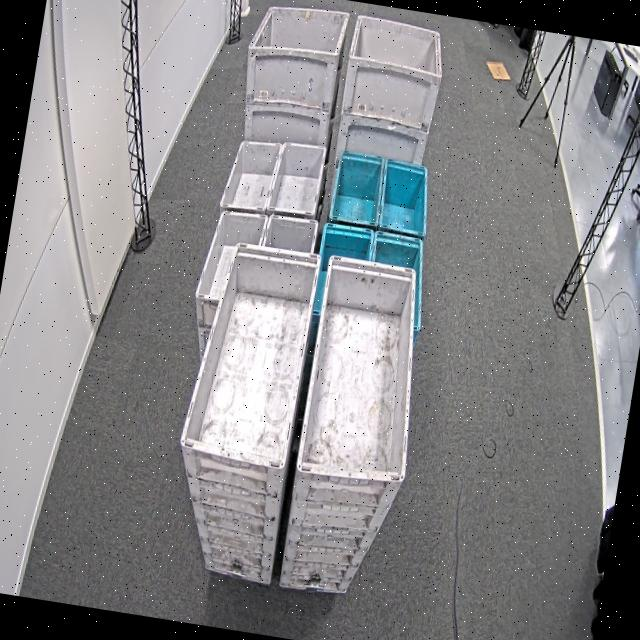Roll3G: (294, 252, 440, 490), (177, 236, 322, 474)
Roll4G: (346, 11, 452, 81), (248, 0, 350, 66)
Roll8G: (192, 202, 320, 318), (218, 130, 328, 222)
RollB8: (308, 220, 437, 336), (327, 147, 439, 240)
